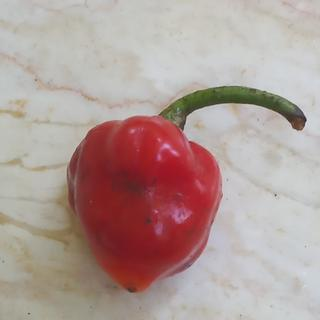Fly-bites: (143, 213, 158, 231)
